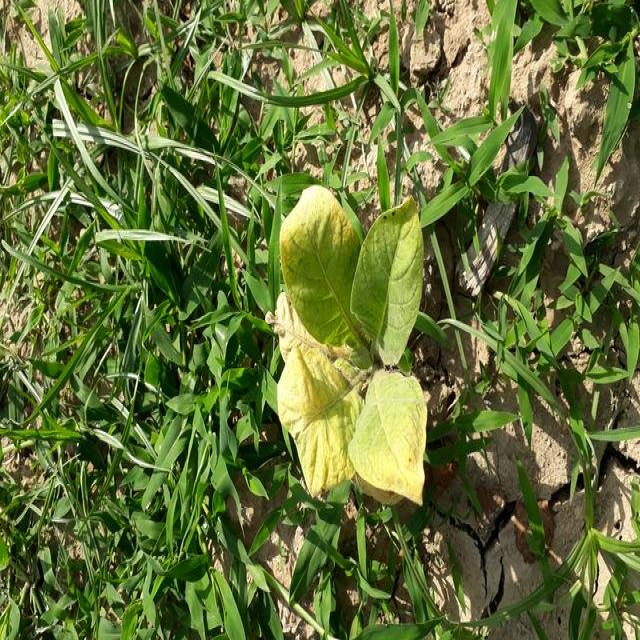crop: (274, 188, 430, 498)
